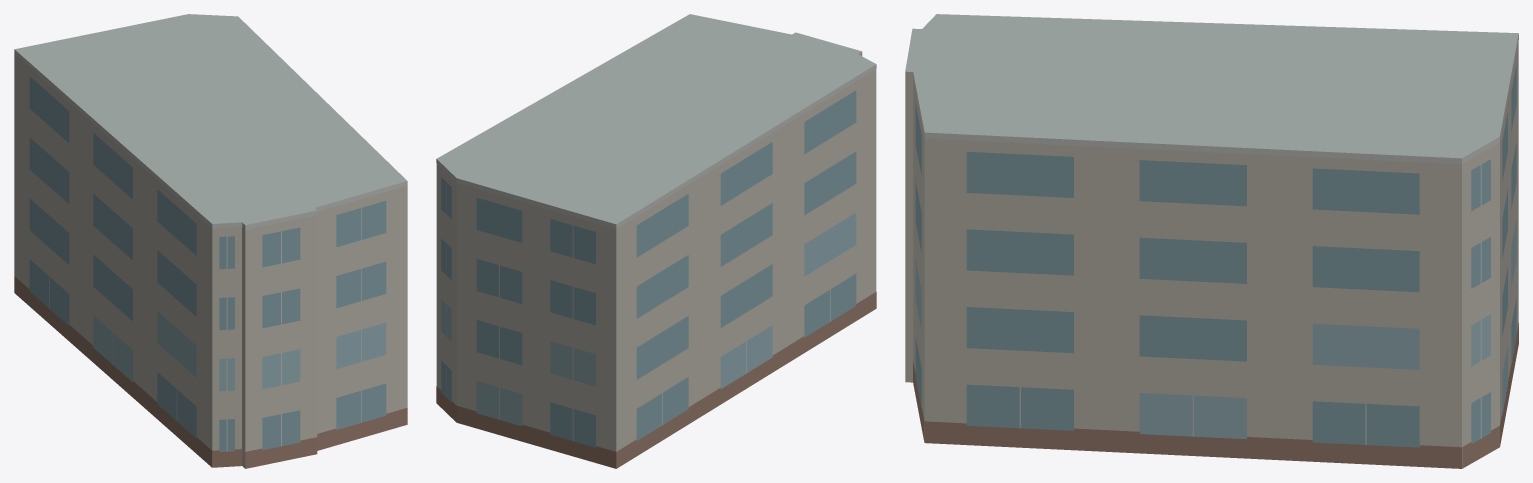
File: survey-upis-32933435.glb
The picture shows the model from 3 angles, left to right: view 1: azimuth 30°, elevation 25°; view 2: azimuth 150°, elevation 25°; view 3: azimuth 270°, elevation 25°; orthographic projection. The views are drawn at different scales.
Visible parts, largest first — view 1: survey-upis-32933435.tmp; view 2: survey-upis-32933435.tmp; view 3: survey-upis-32933435.tmp.
Part boxes in pixels (box(x1,y1,x2,y2)): survey-upis-32933435.tmp: box(14, 14, 407, 468); survey-upis-32933435.tmp: box(436, 14, 876, 468); survey-upis-32933435.tmp: box(905, 14, 1518, 468).
Size of the model in its own units: 12.62 by 12.65 by 22.67.
